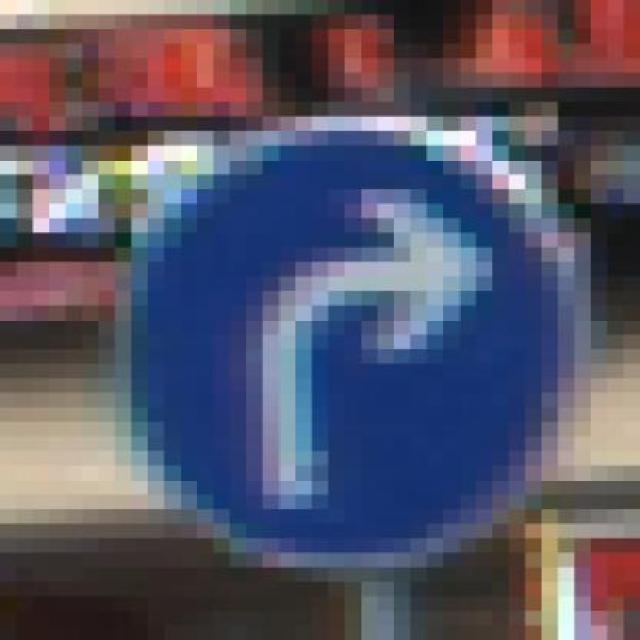Turn right ahead: (115, 116, 607, 567)
